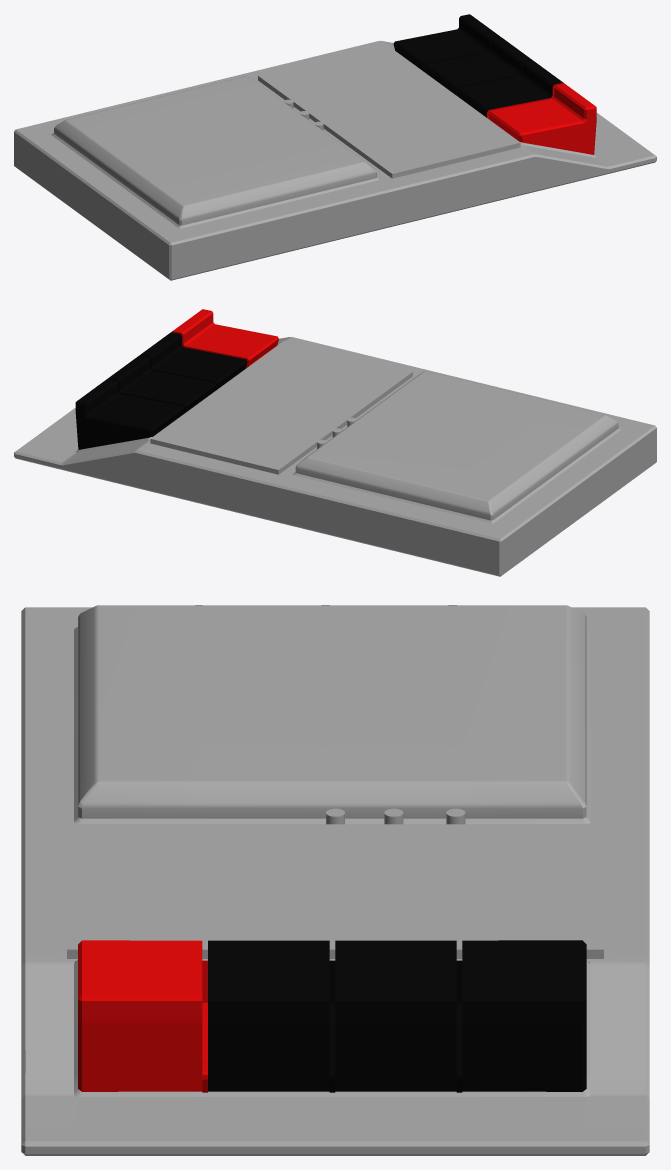
File: Kasete.fbx
3 renders of one model, top to bottom at view 1: azimuth 30°, elevation 25°; view 2: azimuth 150°, elevation 25°; view 3: azimuth 270°, elevation 25°, orthographic. The views are drawn at different scales.
Visible parts, largest first — view 1: Cassette; view 2: Cassette; view 3: Cassette.
Part boxes in pixels (left/top/right/bottom): Cassette: left=14, top=14, right=656, bottom=280; Cassette: left=14, top=309, right=656, bottom=576; Cassette: left=21, top=605, right=649, bottom=1155.
Bounding box in the file's own units: 13.49 × 1.53 × 7.52.
